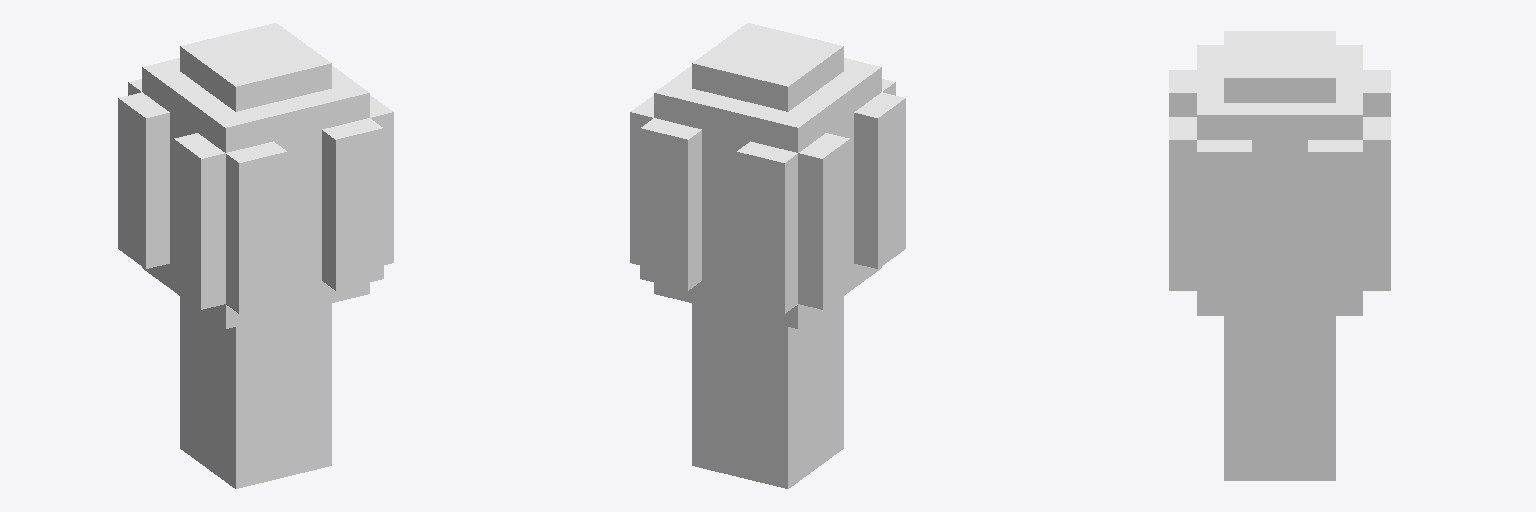
The model's file is SmallTree.obj.
3 views of the same model, side by side, from view 1: azimuth 30°, elevation 25°; view 2: azimuth 150°, elevation 25°; view 3: azimuth 270°, elevation 25° (orthographic).
Bounding box in the file's own units: 8 × 16 × 8.